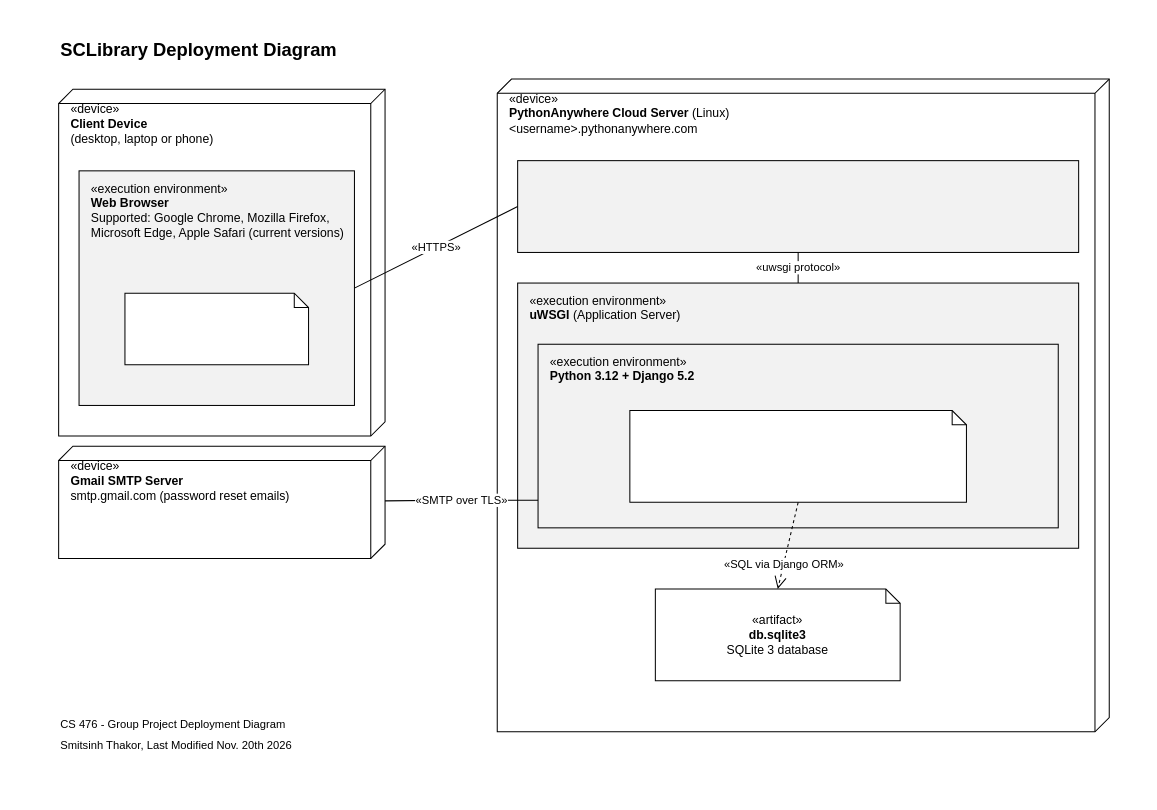
This 1157x810 diagram has some shape labels left out. The shapes that lost their labels are listed below. From the top down, each one's centre as x and y in pixels, then its label:
At point 798,206: "«execution environment» nginx (Web Server) HTTPS, serves /static/ files".
At point 216,328: "«artifact» HTML pages with Materialize CSS".
At point 797,456: "«artifact» SCLibrary Django project (models, views, templates, urls)".
